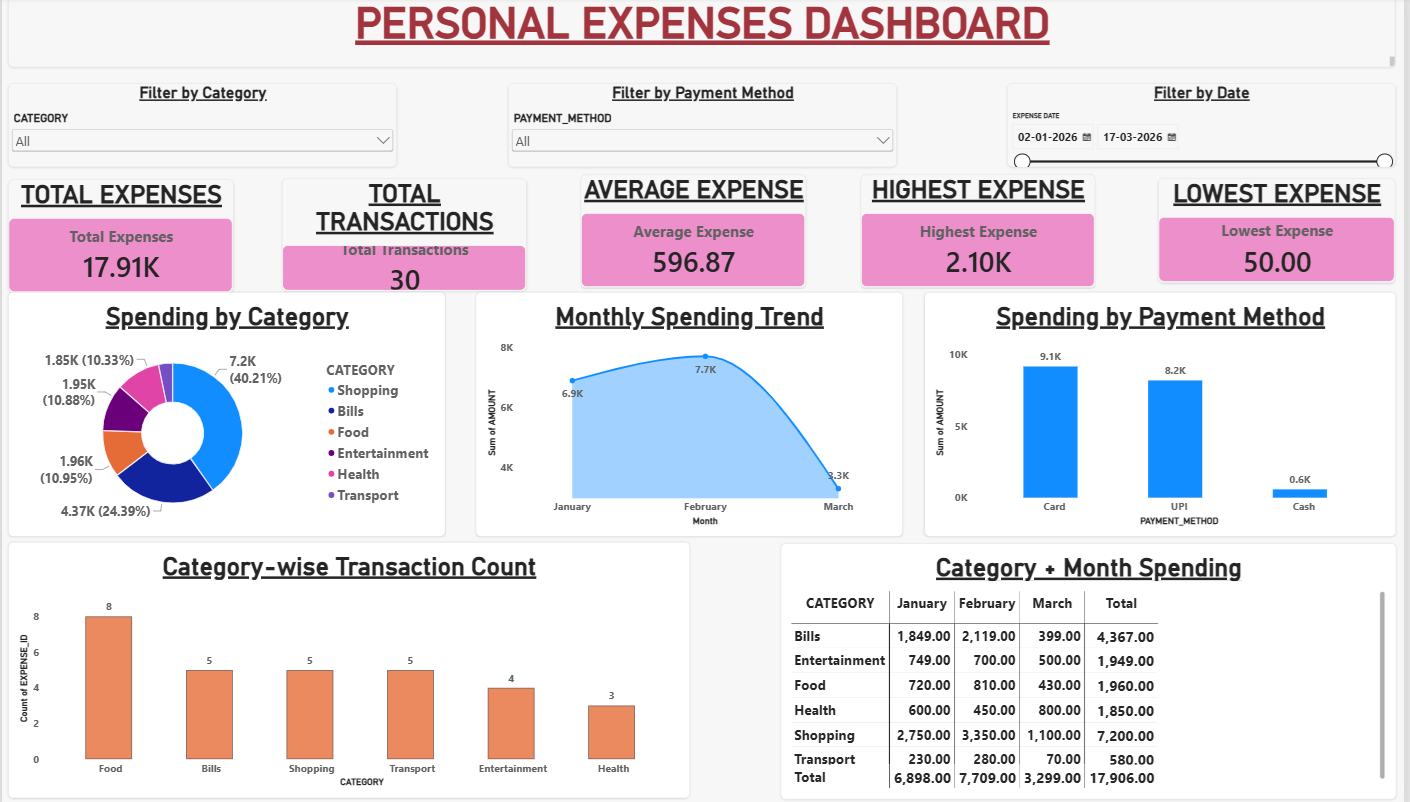

The dashboard page shown, as its layout file describes it:
{"tool":"powerbi","page":{"name":"Personal Expenses Dashboard","canvas":[2220,1280],"ordinal":3},"visuals":[{"type":"textbox","title":"PERSONAL EXPENSES DASHBOARD","box":[10.1,0,2196.2,110.9],"z":0},{"type":"slicer","title":"Filter by Category","fields":{"Values":["EXPENSES.CATEGORY"]},"box":[10.1,137.1,615.1,133.1],"z":1},{"type":"slicer","title":"Filter by Payment Method","fields":{"Values":["EXPENSES.PAYMENT_METHOD"]},"box":[800.6,137.1,615.1,133.1],"z":2},{"type":"slicer","title":"Filter by Date","fields":{"Values":["EXPENSES.EXPENSE_DATE"]},"box":[1591.2,137.1,615.1,133.1],"z":3},{"type":"cardVisual","title":"TOTAL EXPENSES","fields":{"Data":["EXPENSES.Total Expenses"]},"box":[10.1,288.4,357,179.5],"z":4},{"type":"cardVisual","title":"TOTAL TRANSACTIONS","fields":{"Data":["EXPENSES.Total Transactions"]},"box":[443.7,286.4,387.2,179.5],"z":5},{"type":"cardVisual","title":"AVERAGE EXPENSE","fields":{"Data":["EXPENSES.Average Expense"]},"box":[915.6,280.3,357,179.5],"z":6},{"type":"cardVisual","title":"HIGHEST EXPENSE","fields":{"Data":["EXPENSES.Highest Expense"]},"box":[1359.3,280.3,371.1,179.5],"z":7},{"type":"cardVisual","title":" LOWEST EXPENSE","fields":{"Data":["EXPENSES.Lowest Expense"]},"box":[1831.2,286.4,375.1,165.4],"z":8},{"type":"donutChart","title":"Spending by Category","fields":{"Category":["EXPENSES.CATEGORY"],"Y":["Sum(EXPENSES.AMOUNT)"]},"box":[10.1,467.9,691.7,387.2],"z":9},{"type":"lineChart","title":"Monthly Spending Trend","fields":{"Category":["EXPENSES.EXPENSE_DATE.Variation.Date Hierarchy.Month"],"Y":["Sum(EXPENSES.AMOUNT)"]},"box":[750.2,467.9,675.6,387.2],"z":10},{"type":"clusteredColumnChart","title":"Spending by Payment Method","fields":{"Category":["EXPENSES.PAYMENT_METHOD"],"Y":["Sum(EXPENSES.AMOUNT)"]},"box":[1460.1,467.9,746.2,387.2],"z":11},{"type":"clusteredColumnChart","title":"Category-wise Transaction Count","fields":{"Category":["EXPENSES.CATEGORY"],"Y":["CountNonNull(EXPENSES.EXPENSE_ID)"]},"box":[10.1,863.2,1078.9,405.4],"z":12},{"type":"pivotTable","title":"Category + Month Spending","fields":{"Columns":["EXPENSES.EXPENSE_DATE.Variation.Date Hierarchy.Month"],"Rows":["EXPENSES.CATEGORY"],"Values":["Sum(EXPENSES.AMOUNT)"]},"box":[1232.2,865.2,974.1,405.4],"z":13}]}

Visuals, with their boxes in screenshot pixels (x1, y1, x2, y2), scaled from the page's 2220x1280 canvas onto the 1410x802 screenshot:
"PERSONAL EXPENSES DASHBOARD" textbox: x1=6, y1=0, x2=1401, y2=69
"Filter by Category" slicer: x1=6, y1=86, x2=397, y2=169
"Filter by Payment Method" slicer: x1=508, y1=86, x2=899, y2=169
"Filter by Date" slicer: x1=1011, y1=86, x2=1401, y2=169
"TOTAL EXPENSES" cardVisual: x1=6, y1=181, x2=233, y2=293
"TOTAL TRANSACTIONS" cardVisual: x1=282, y1=179, x2=528, y2=292
"AVERAGE EXPENSE" cardVisual: x1=582, y1=176, x2=808, y2=288
"HIGHEST EXPENSE" cardVisual: x1=863, y1=176, x2=1099, y2=288
" LOWEST EXPENSE" cardVisual: x1=1163, y1=179, x2=1401, y2=283
"Spending by Category" donutChart: x1=6, y1=293, x2=446, y2=536
"Monthly Spending Trend" lineChart: x1=476, y1=293, x2=906, y2=536
"Spending by Payment Method" clusteredColumnChart: x1=927, y1=293, x2=1401, y2=536
"Category-wise Transaction Count" clusteredColumnChart: x1=6, y1=541, x2=692, y2=795
"Category + Month Spending" pivotTable: x1=783, y1=542, x2=1401, y2=796
